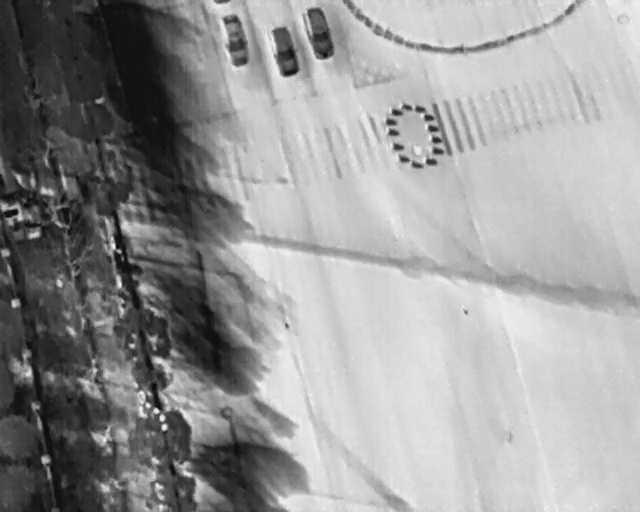Car: (297, 2, 341, 64), (214, 13, 253, 70), (263, 22, 302, 79)
